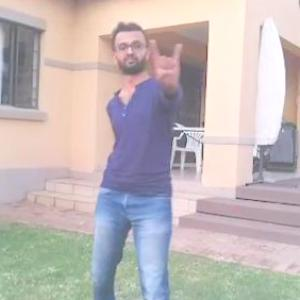takeoff-hand: (148, 33, 184, 91)
